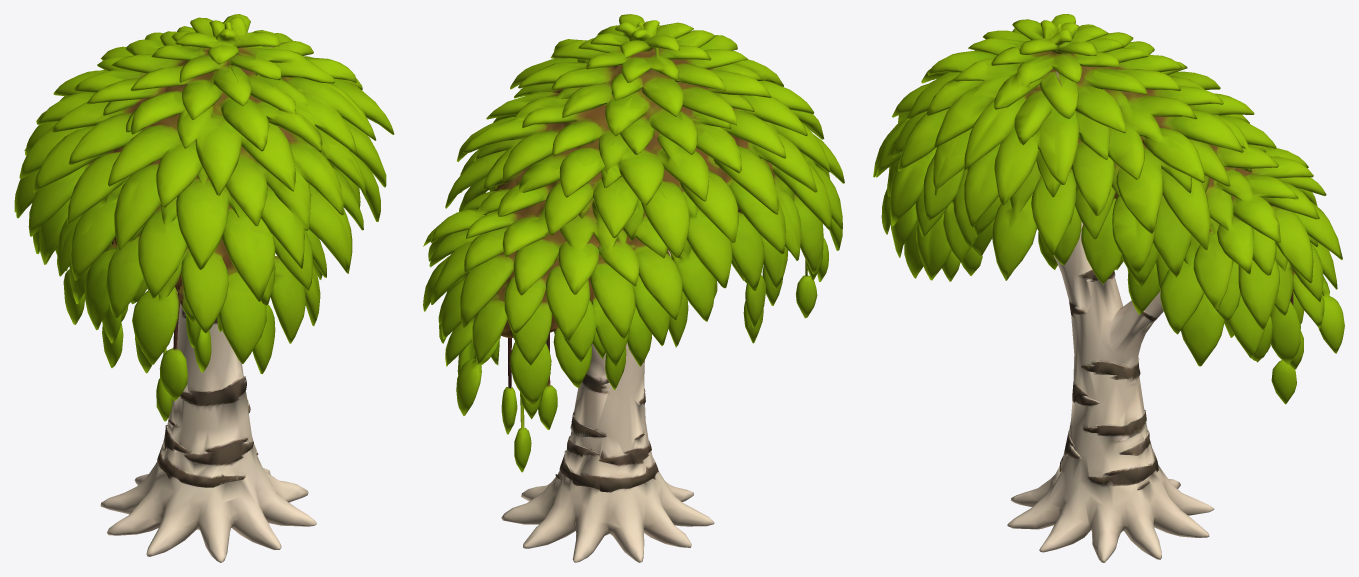
Rendered from tree_birch.glb.
3 renders of one model, left to right at view 1: azimuth 30°, elevation 25°; view 2: azimuth 150°, elevation 25°; view 3: azimuth 270°, elevation 25°, orthographic. The views are drawn at different scales.
Parts seen in each view (by area): view 1: tripo_node_0ffaae06-04e6-4bda-a734-e6ec44ec65fe; view 2: tripo_node_0ffaae06-04e6-4bda-a734-e6ec44ec65fe; view 3: tripo_node_0ffaae06-04e6-4bda-a734-e6ec44ec65fe.
Part boxes in pixels (left/top/right/bottom): tripo_node_0ffaae06-04e6-4bda-a734-e6ec44ec65fe: left=14, top=14, right=394, bottom=562; tripo_node_0ffaae06-04e6-4bda-a734-e6ec44ec65fe: left=423, top=14, right=844, bottom=562; tripo_node_0ffaae06-04e6-4bda-a734-e6ec44ec65fe: left=873, top=14, right=1344, bottom=562.
Bounding box in the file's own units: 3.07 × 4.6 × 3.98.
1 material, 1 textured.
